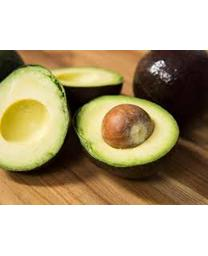avocado: (71, 93, 180, 173), (0, 63, 73, 173), (133, 50, 206, 125)
